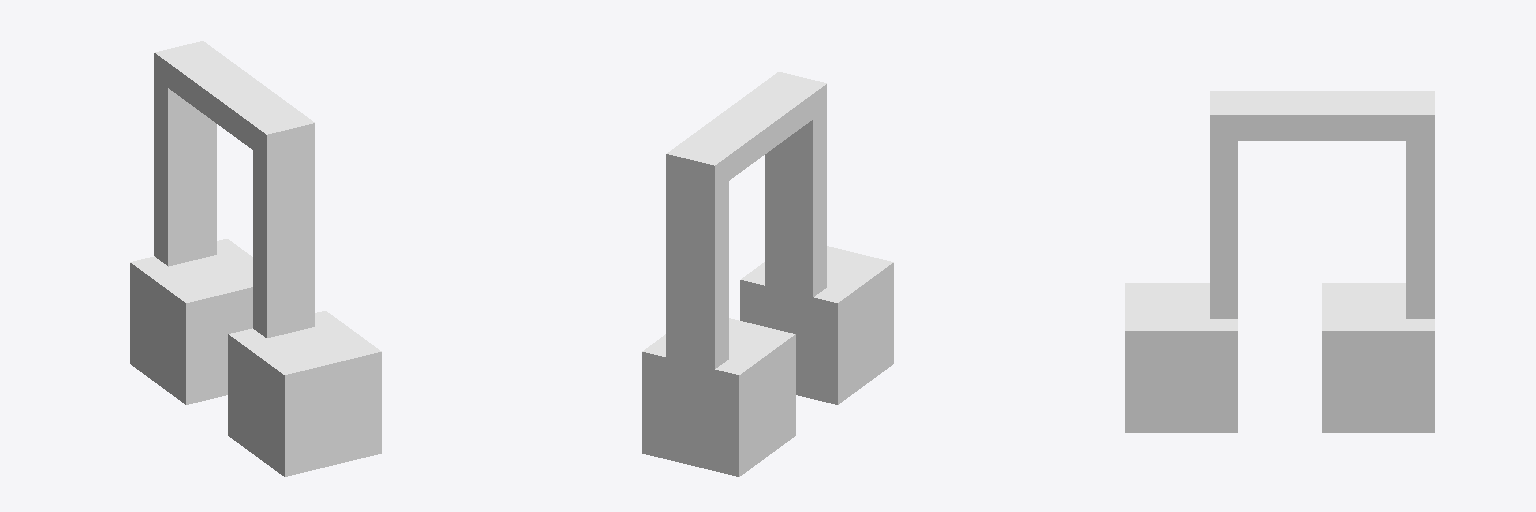
The model's file is note.obj.
3 renders of one model, left to right at view 1: azimuth 30°, elevation 25°; view 2: azimuth 150°, elevation 25°; view 3: azimuth 270°, elevation 25°, orthographic.
Parts seen in each view (by area): view 1: note; view 2: note; view 3: note.
Boxes of the visible parts, x1,y1,x2,y2 form: note: [130, 41, 381, 476]; note: [642, 72, 893, 476]; note: [1125, 91, 1434, 432].
Size of the model in its own units: 1 by 3 by 2.75.